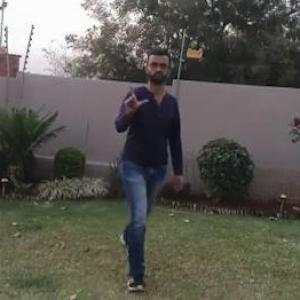land_hand: (118, 76, 155, 116)
